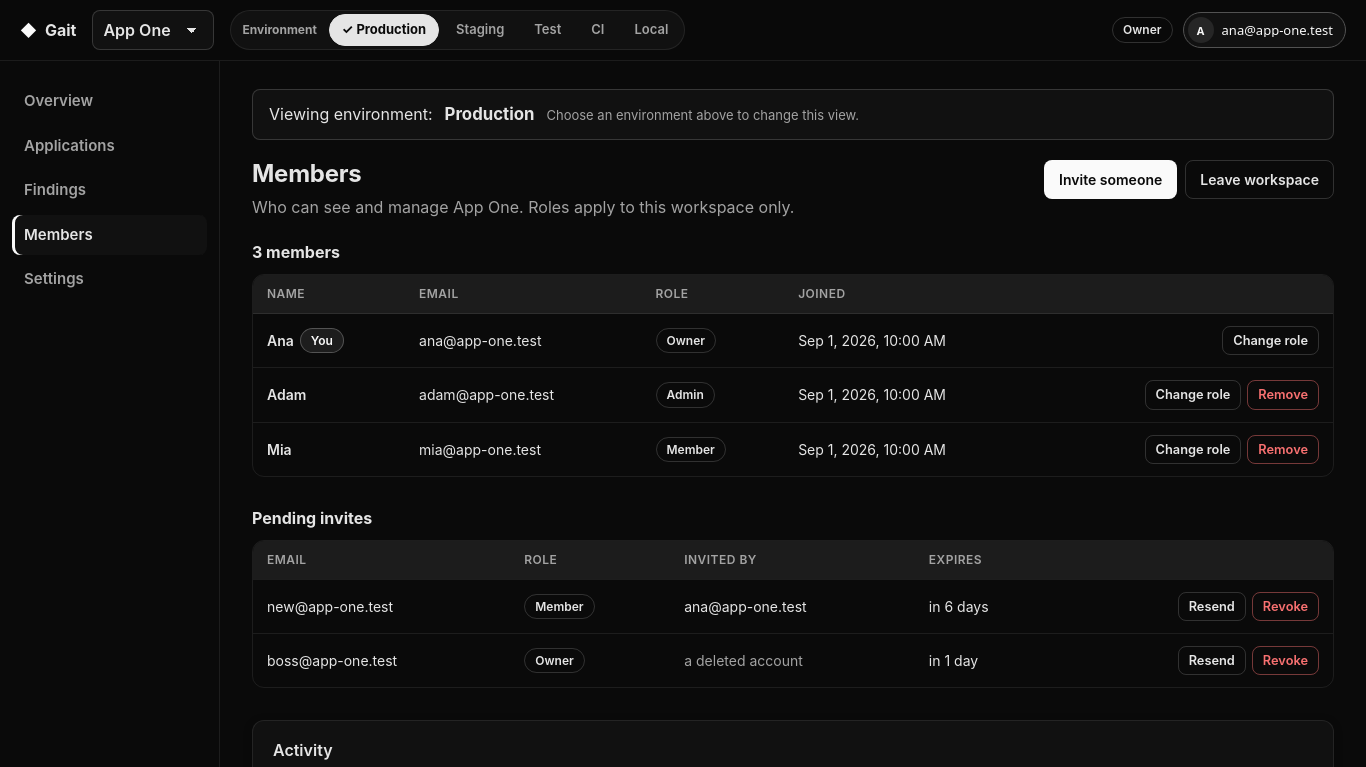
Test case: F4 invites › inviting validates the email, offers role descriptions and says the email went out, never the link
The width and height of the screenshot is (1366, 767).
Click the button "Invite someone". click: (1111, 180)
box: [1044,160,1177,199]
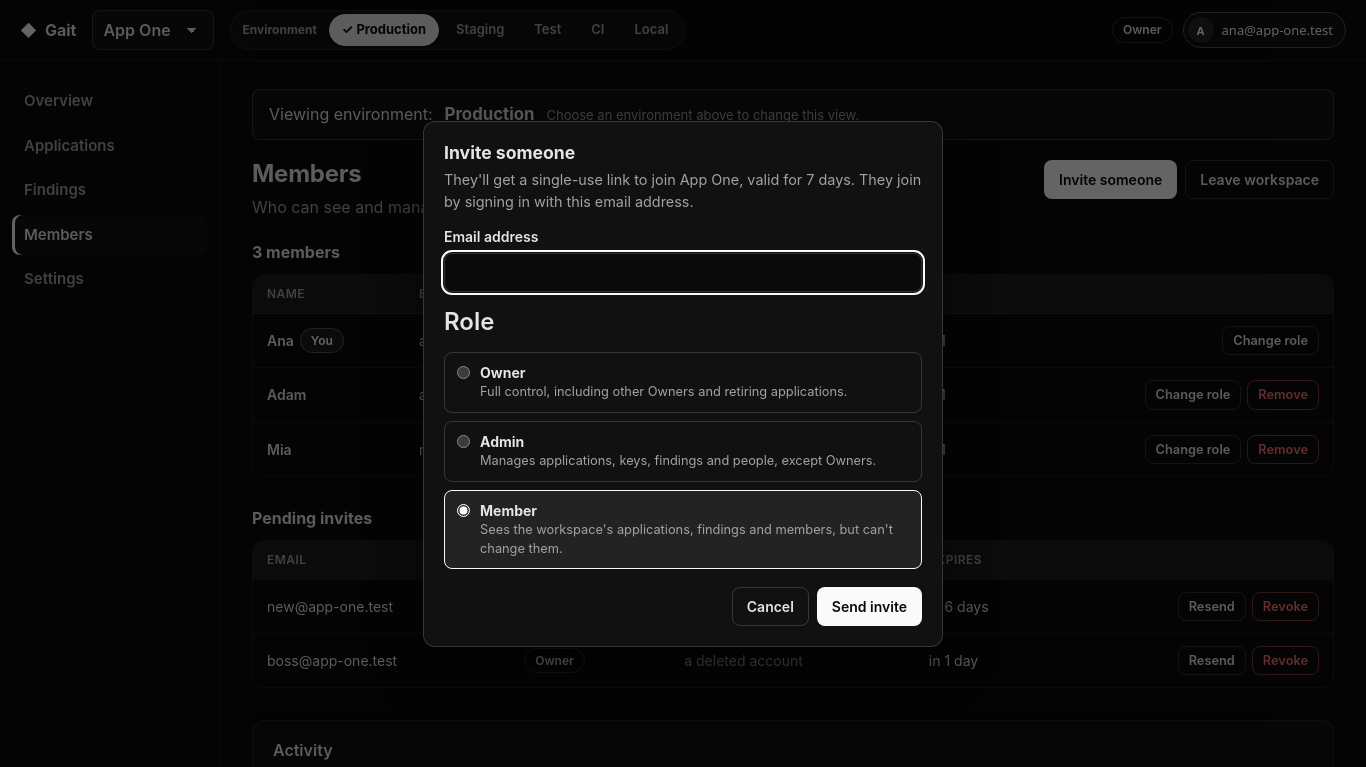
Expected: the number of radio buttons is 3, [457,366,470,379]; [457,435,470,448]; [457,504,470,517]
Expected: the dialog "Invite someone" shows "Manages applications, keys, findings and people, except Owners.", [480,453,876,468]
Type "not-an-email" into the field labelled "Email address". click: (683, 273)
box: [444,253,922,292]
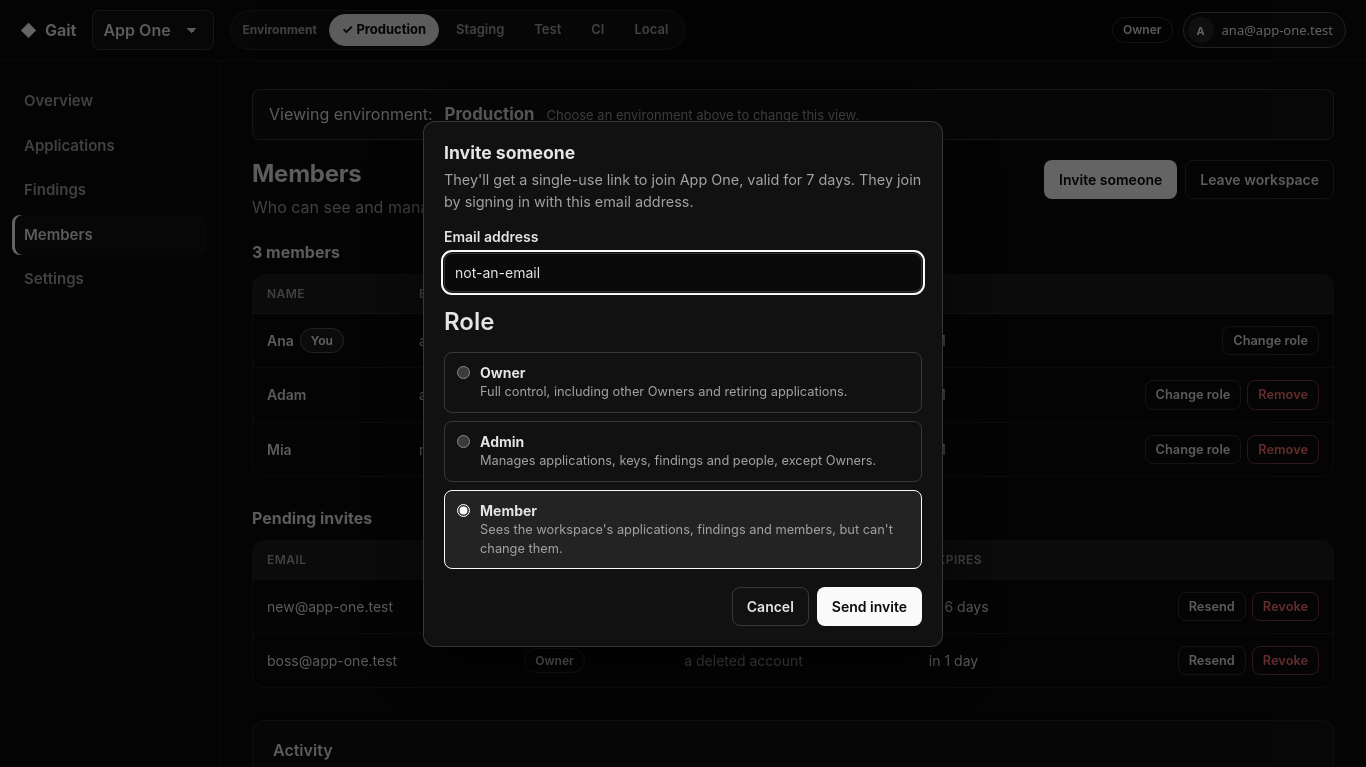
Click the button "Send invite". click: (869, 607)
box: [817,587,922,626]
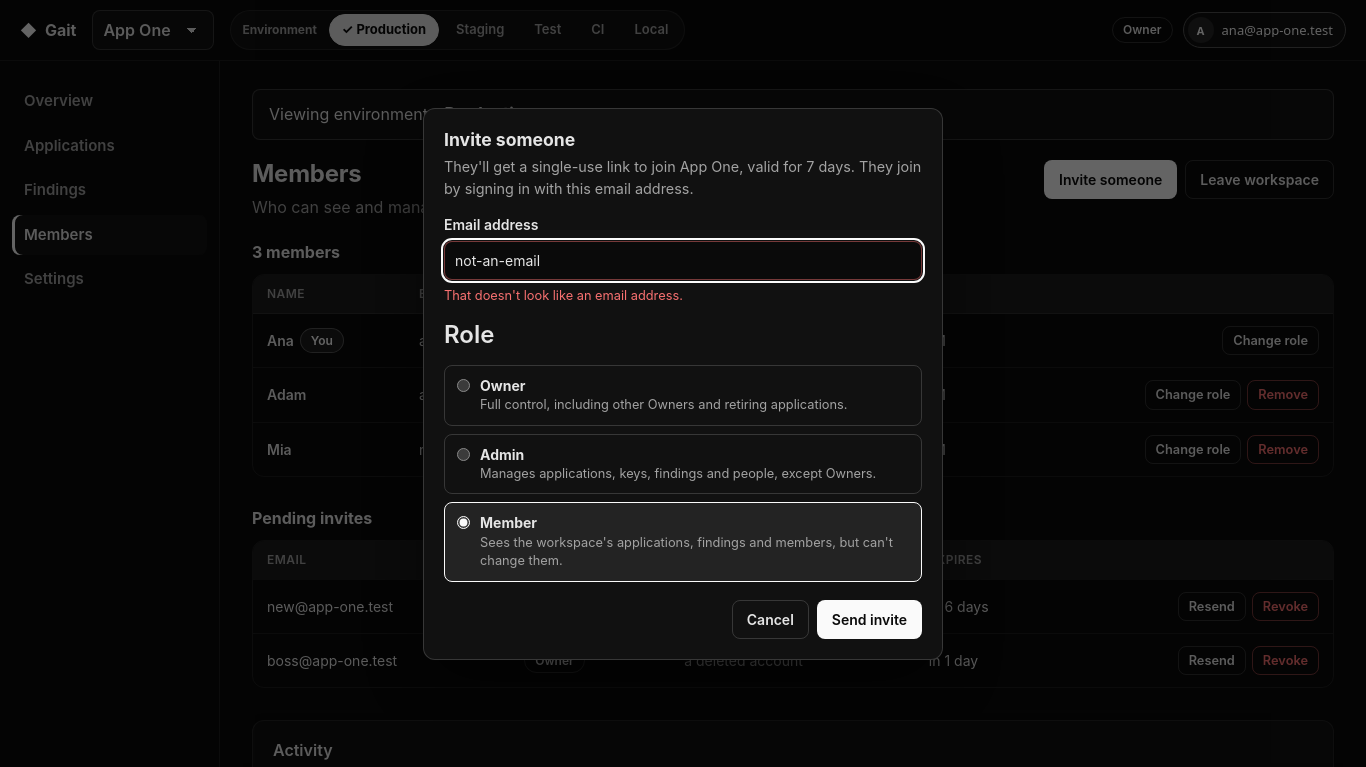
Expected: the text "That doesn't look like an email address." is shown, [444,288,683,302]
Replace the text in the field labelled "Email address" with "sam@app-one.test". click: (683, 260)
box: [444,240,922,280]
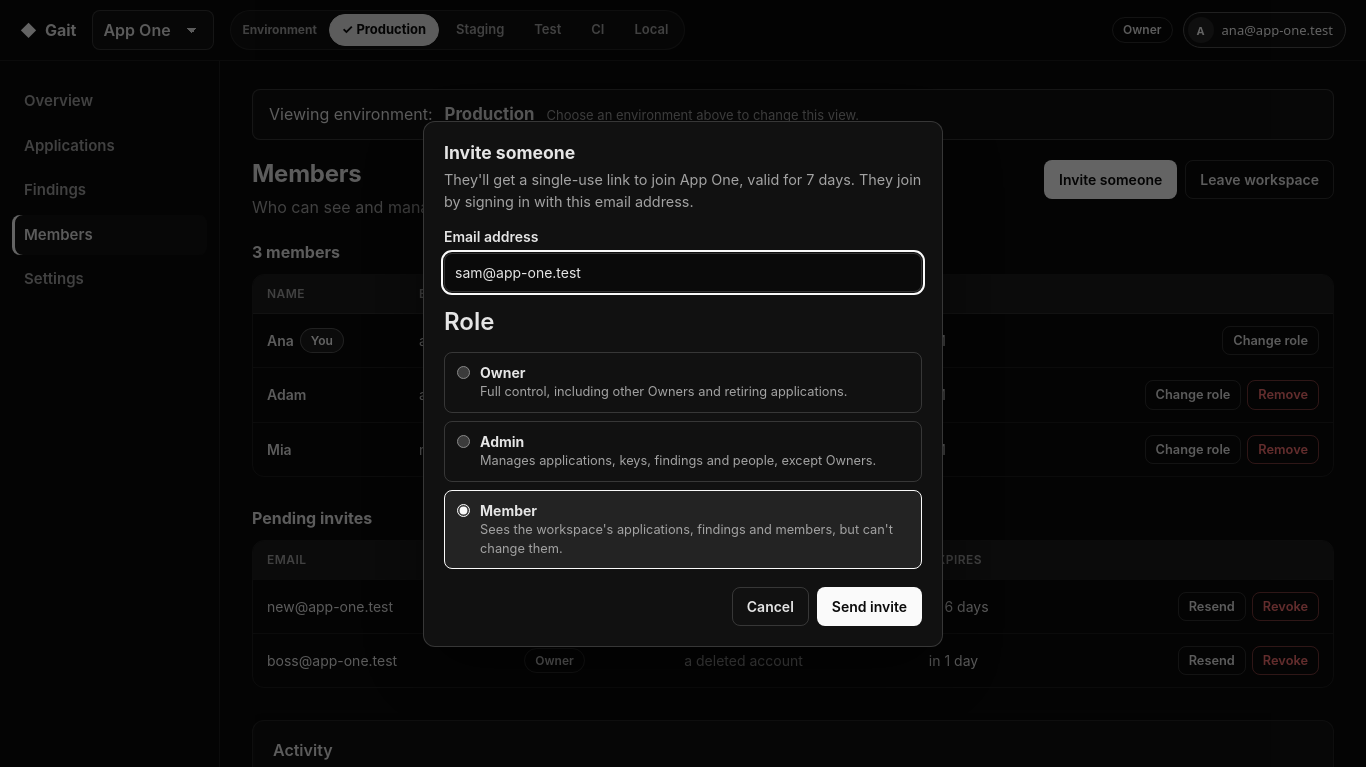
Click the radio button labelled "Admin". click: (464, 442)
box: [457,435,470,448]
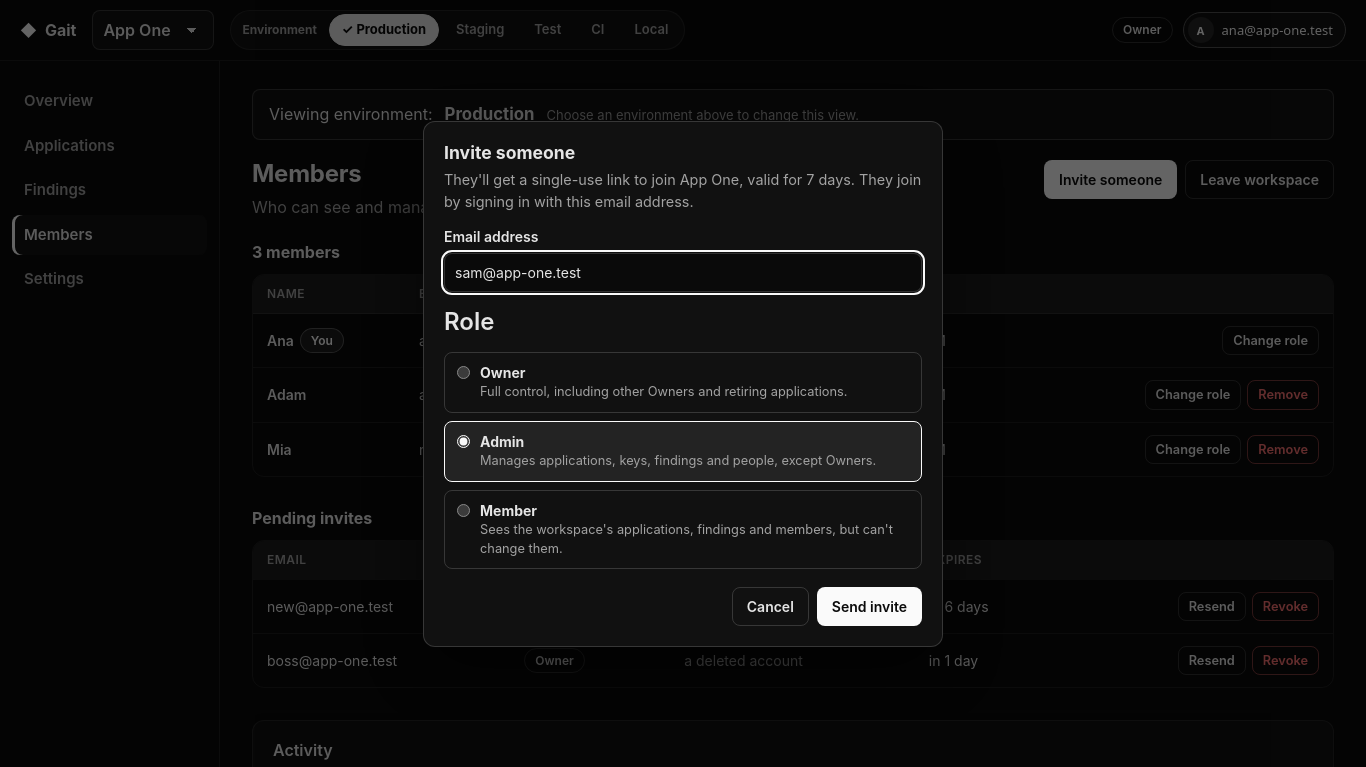
Click the button "Send invite". click: (869, 607)
box: [817,587,922,626]
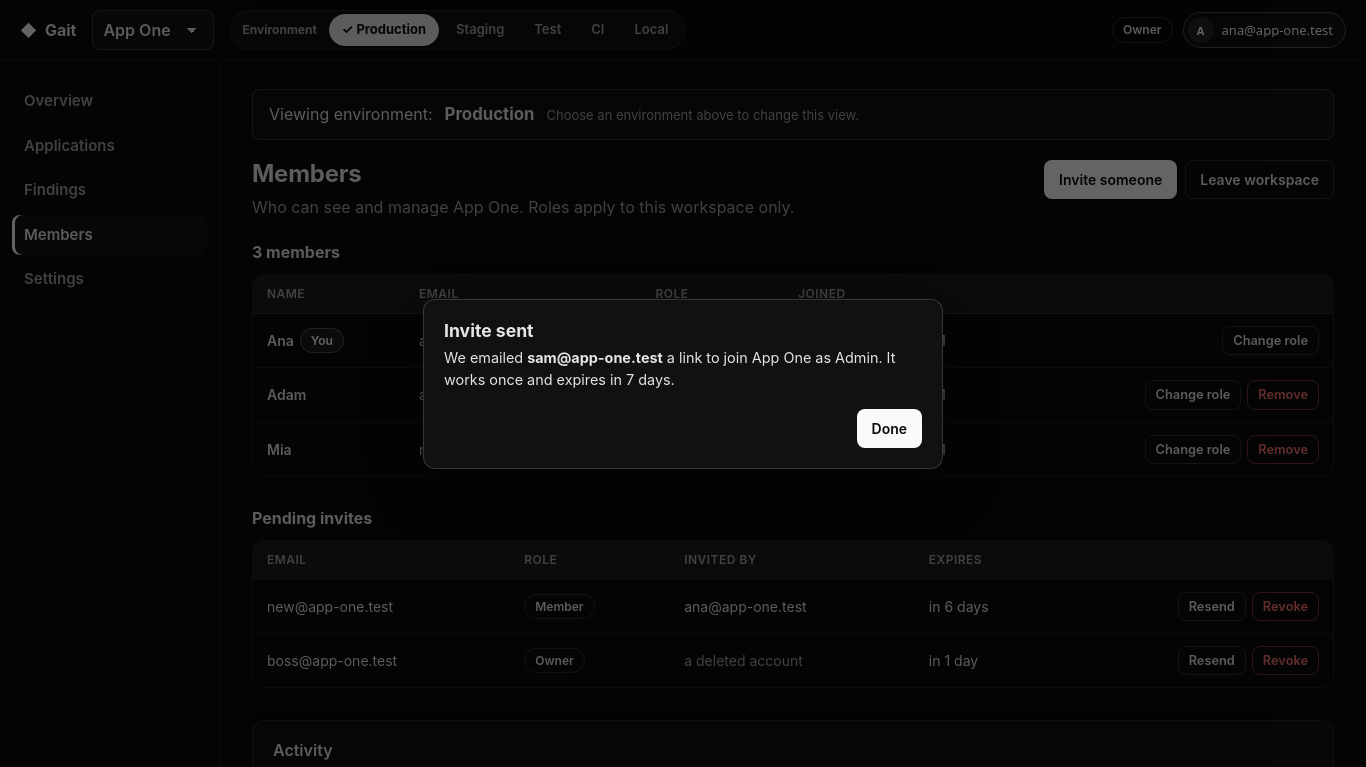
Expected: the dialog "Invite sent" shows "sam@app-one.test", [527,349,663,366]
